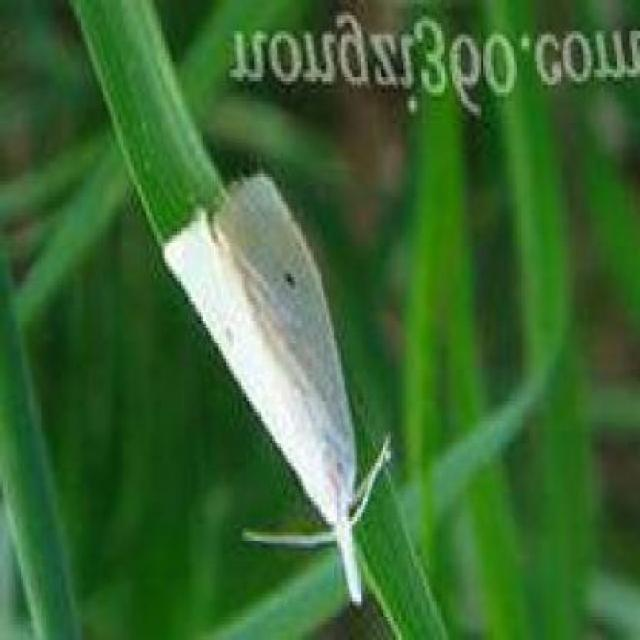stem-borer: (154, 157, 391, 613)
